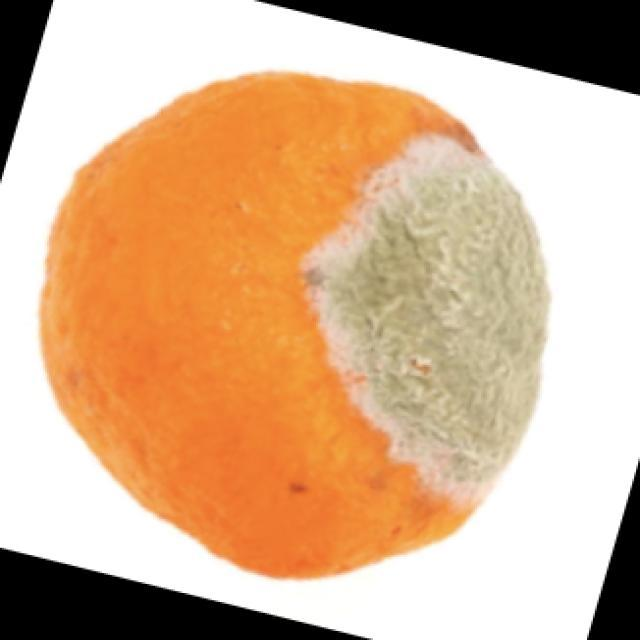sedikit-busuk: (40, 73, 548, 576), (305, 137, 549, 500)
